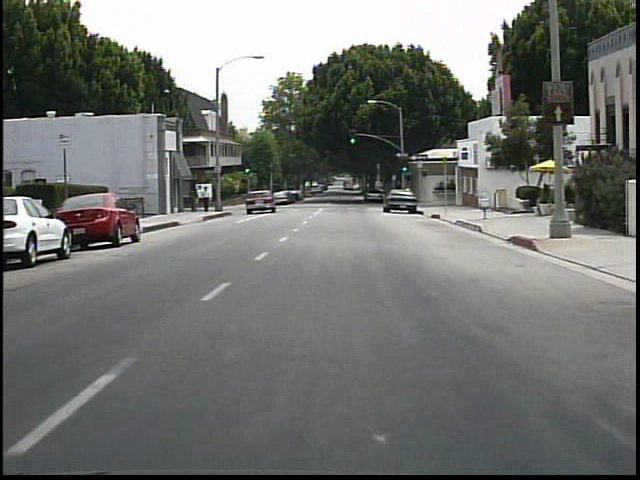person: (188, 186, 201, 214), (203, 186, 215, 214)
